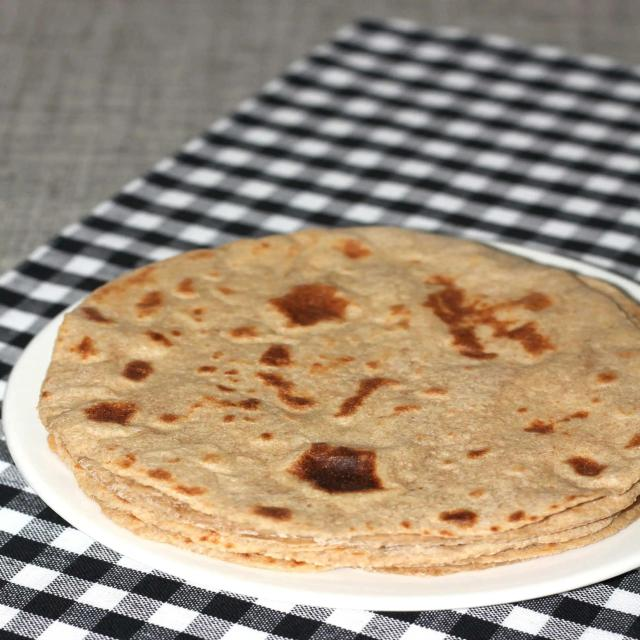roti: (39, 221, 640, 577)
